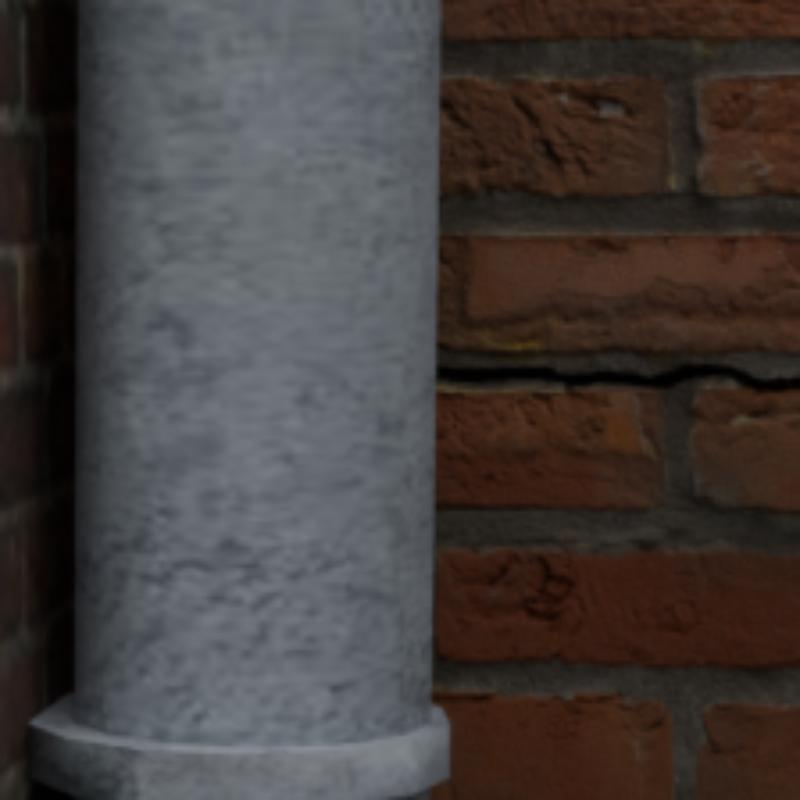crack: (436, 364, 796, 389)
